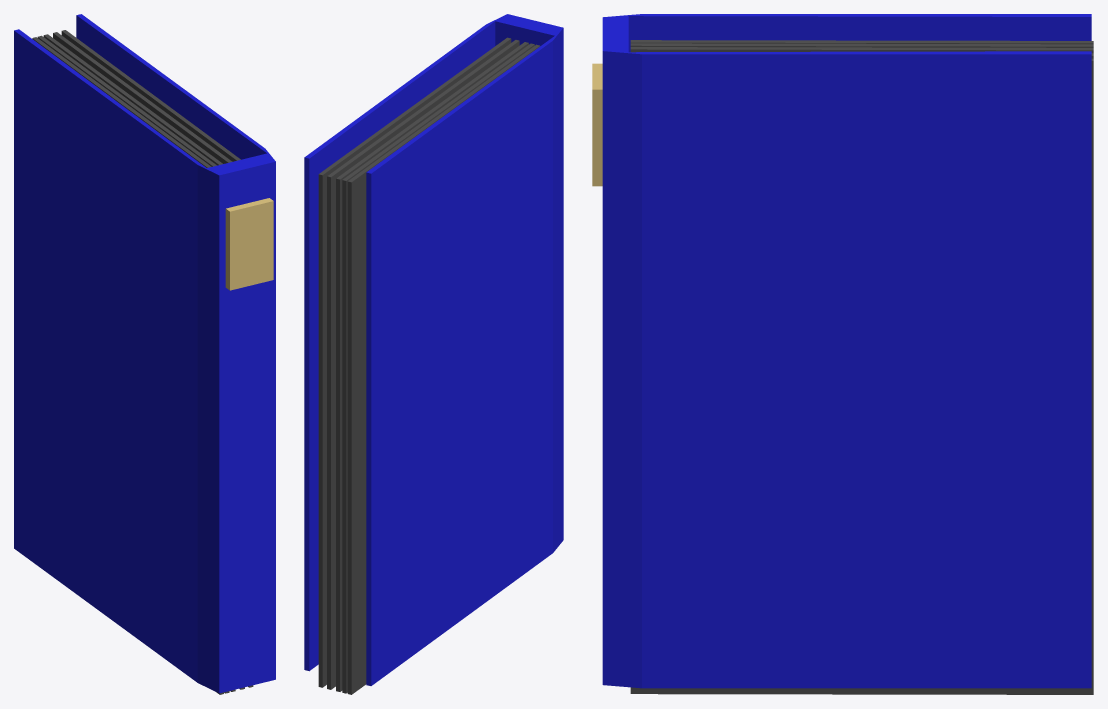
Rendered from Expediente.fbx.
3 views of the same model, side by side, from view 1: azimuth 30°, elevation 25°; view 2: azimuth 150°, elevation 25°; view 3: azimuth 270°, elevation 25° (orthographic). The views are drawn at different scales.
Visible parts, largest first — view 1: Expediente; view 2: Expediente; view 3: Expediente.
Part boxes in pixels (x1,y1,x2,y2): Expediente: (14,14,275,694); Expediente: (304,14,563,694); Expediente: (592,14,1093,694).
Bounding box in the file's own units: 7.12 × 53.49 × 37.43.
